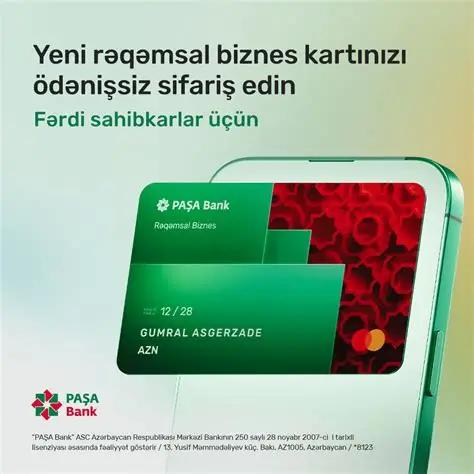Pasha Bank: (31, 387, 63, 422), (155, 196, 171, 215)
